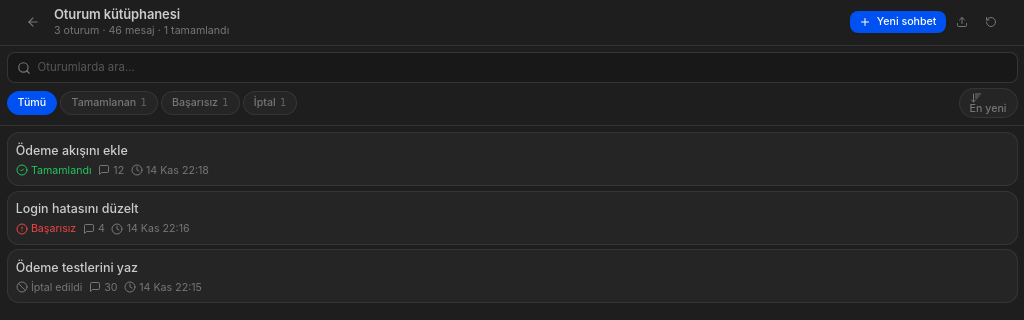
Test: HistoryView: durum filtresi › başarısız oturumları filtreler
expect the text "Ödeme akışını ekle" is shown: met, box [16,143,128,158]
Click the button "Başarısız 1": [200, 103] box [161,91,240,115]
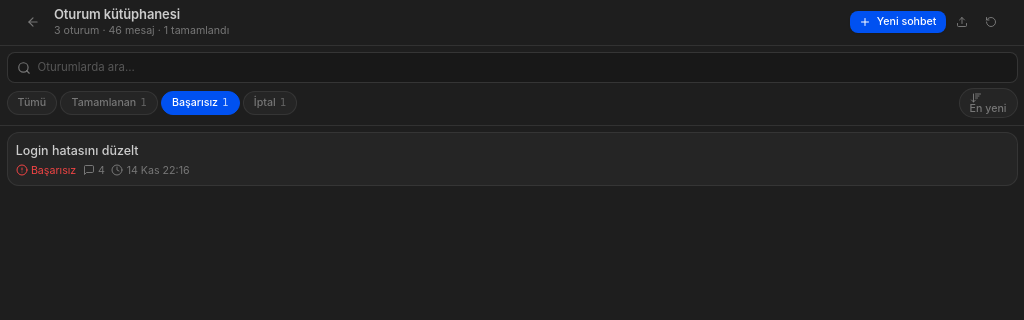
expect the text "Login hatasını düzelt" is shown: met, box [16,143,138,158]
expect the button "Ödeme akışını ekle" is gone: met
